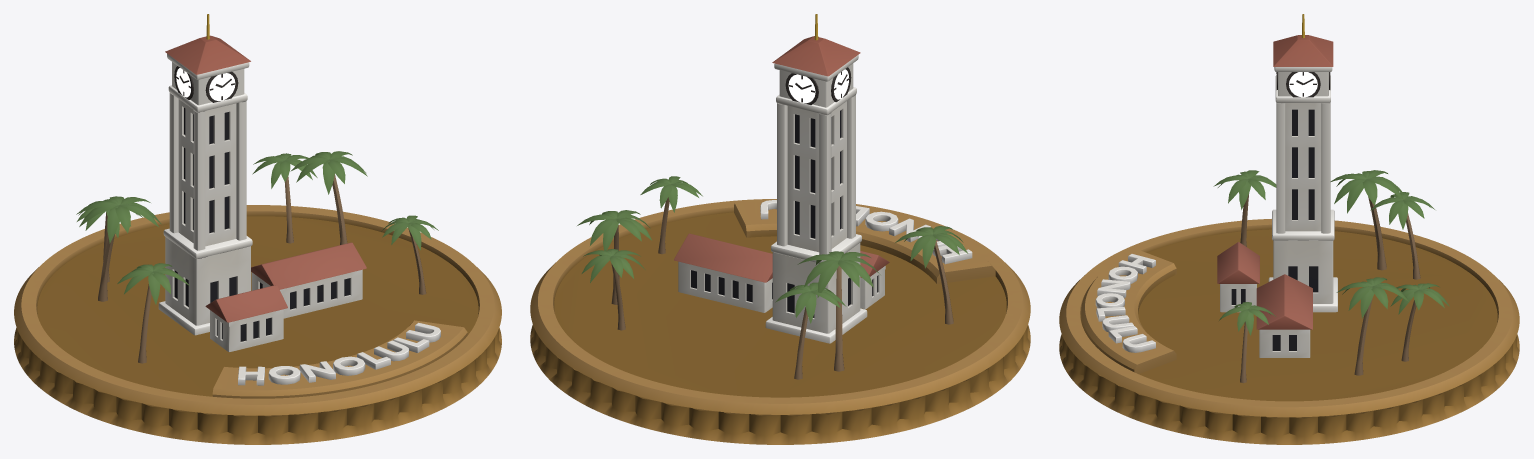
The model's file is city_bundle_honolulu.glb.
3 views of the same model, side by side, from view 1: azimuth 30°, elevation 25°; view 2: azimuth 150°, elevation 25°; view 3: azimuth 270°, elevation 25° (orthographic). The views are drawn at different scales.
Parts seen in each view (by area): view 1: Plinth_Body, AlohaTower_Stone, Palms, Plinth_Nameplate, PierShed_Stone, PierShed_Roof, Plinth_Text_HONOLULU, AlohaTower_Roof, AlohaTower_Clocks; view 2: Plinth_Body, AlohaTower_Stone, Palms, Plinth_Nameplate, PierShed_Stone, PierShed_Roof, AlohaTower_Roof, Plinth_Text_HONOLULU, AlohaTower_Clocks; view 3: Plinth_Body, AlohaTower_Stone, Palms, Plinth_Nameplate, PierShed_Roof, Plinth_Text_HONOLULU, PierShed_Stone, AlohaTower_Roof, AlohaTower_Clocks.
Part boxes in pixels (bbox=[...]): Plinth_Body: bbox=[14, 205, 501, 444]; AlohaTower_Stone: bbox=[158, 53, 252, 335]; Palms: bbox=[76, 151, 438, 363]; Plinth_Nameplate: bbox=[212, 320, 467, 398]; PierShed_Stone: bbox=[210, 269, 362, 351]; PierShed_Roof: bbox=[205, 242, 366, 322]; Plinth_Text_HONOLULU: bbox=[238, 322, 440, 385]; AlohaTower_Roof: bbox=[165, 14, 250, 74]; AlohaTower_Clocks: bbox=[174, 66, 238, 102]; Plinth_Body: bbox=[530, 199, 1030, 444]; AlohaTower_Stone: bbox=[765, 55, 867, 343]; Palms: bbox=[577, 176, 968, 379]; Plinth_Nameplate: bbox=[734, 201, 995, 284]; PierShed_Stone: bbox=[678, 261, 885, 312]; PierShed_Roof: bbox=[674, 233, 889, 282]; AlohaTower_Roof: bbox=[772, 14, 860, 76]; Plinth_Text_HONOLULU: bbox=[760, 200, 972, 264]; AlohaTower_Clocks: bbox=[785, 67, 851, 104]; Plinth_Body: bbox=[1059, 219, 1519, 444]; AlohaTower_Stone: bbox=[1268, 67, 1337, 312]; Palms: bbox=[1213, 170, 1449, 383]; Plinth_Nameplate: bbox=[1081, 249, 1176, 374]; PierShed_Roof: bbox=[1217, 242, 1312, 329]; Plinth_Text_HONOLULU: bbox=[1095, 254, 1155, 352]; PierShed_Stone: bbox=[1220, 284, 1310, 357]; AlohaTower_Roof: bbox=[1273, 14, 1333, 66]; AlohaTower_Clocks: bbox=[1276, 72, 1330, 97].
Size of the model in its own units: 1.99 by 1.51 by 1.99.
